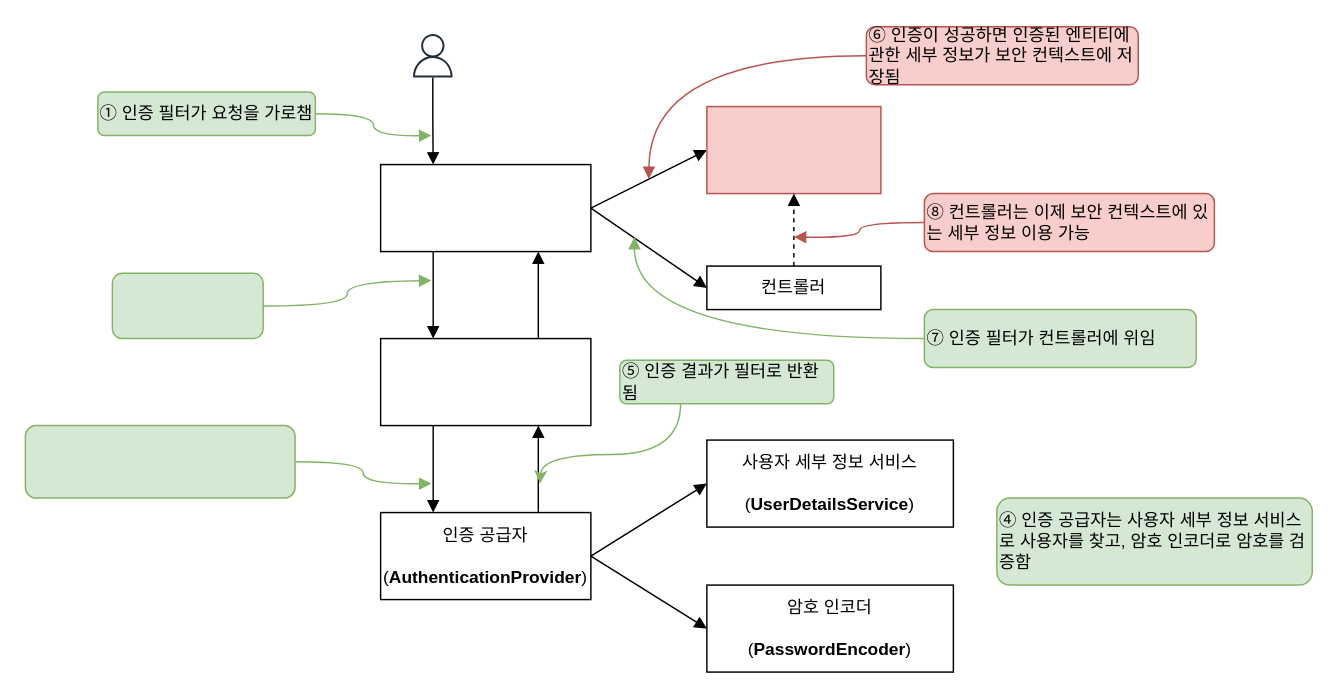
The diagram is 1338 pixels wide and 697 high, and some of its shapes have lost their labels. Here are the shapes that lost their labels. From the top down, the centre of each, then its label:
the point at 793,149: 보안 컨텍스트 ( SerucityContext )
the point at 485,207: 인증 필터 ( AuthenticationFilter )
the point at 187,305: ② 인증 관리자에게 인증 책임이 위임됨
the point at 485,381: 인증 관리자 ( AuthenticationManager )
the point at 159,461: ③ 인증 관리자는 인증 논리를 구현하는 인증 공급자를 이용함
